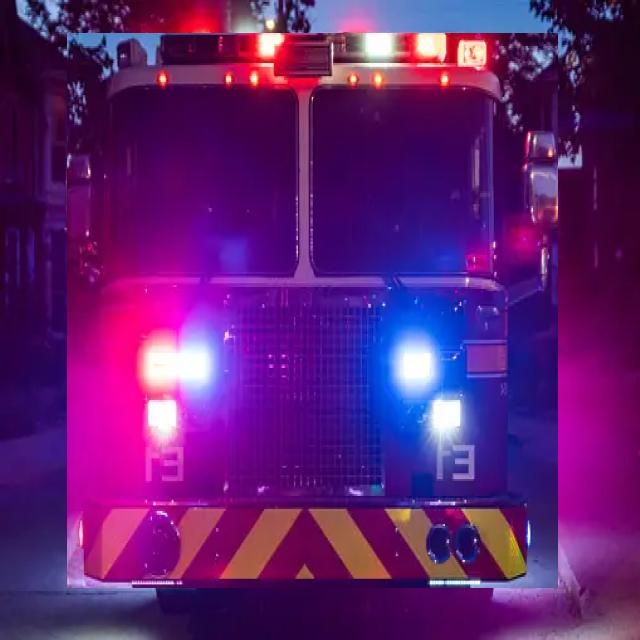emergency: (68, 33, 558, 588)
